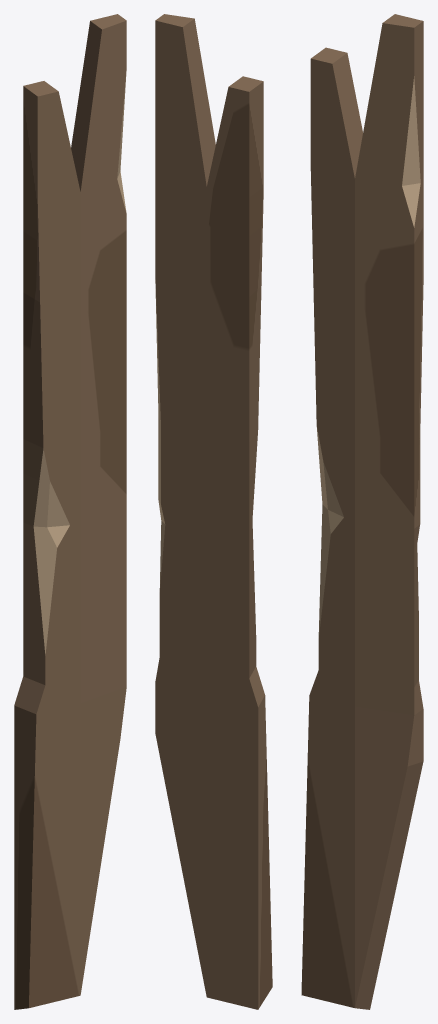
The model's file is SM_Wooden_Plank_B.gltf.
3 views of the same model, side by side, from view 1: azimuth 30°, elevation 25°; view 2: azimuth 150°, elevation 25°; view 3: azimuth 330°, elevation 25° (orthographic). The views are drawn at different scales.
Visible parts, largest first — view 1: SM_Wooden_Plank_B; view 2: SM_Wooden_Plank_B; view 3: SM_Wooden_Plank_B.
Boxes of the visible parts, x1=… form: SM_Wooden_Plank_B: x1=14, y1=14, x2=126, y2=1009; SM_Wooden_Plank_B: x1=155, y1=14, x2=272, y2=1009; SM_Wooden_Plank_B: x1=301, y1=14, x2=423, y2=1009.
Bounding box in the file's own units: 0.2234 × 2 × 0.0546.
1 material, 1 textured.
